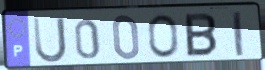0: (111, 14, 141, 62), (73, 18, 103, 60)
B: (183, 12, 219, 59)
I: (231, 9, 246, 58)
O: (146, 13, 181, 60)
U: (31, 15, 69, 65)
